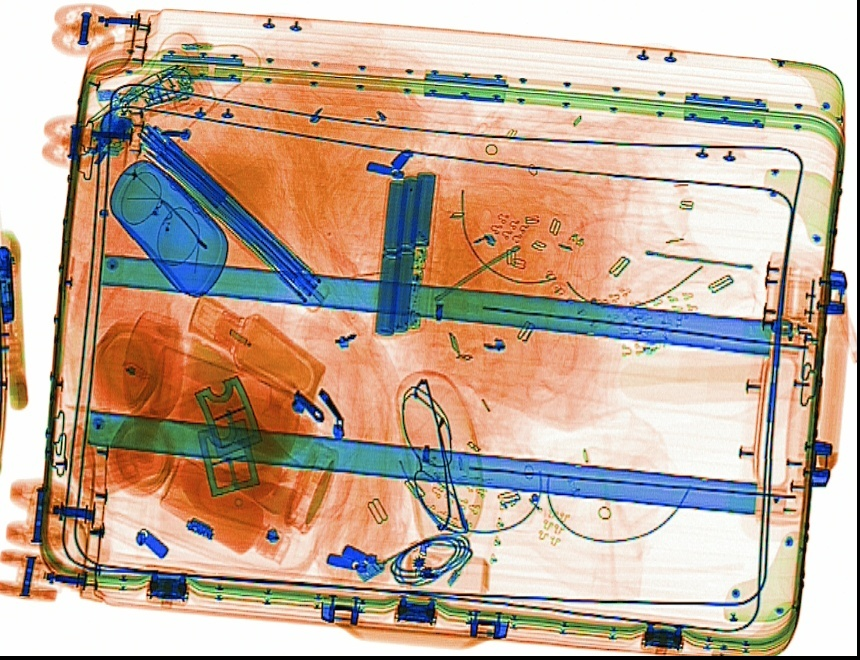powerbank: (365, 166, 440, 336)
